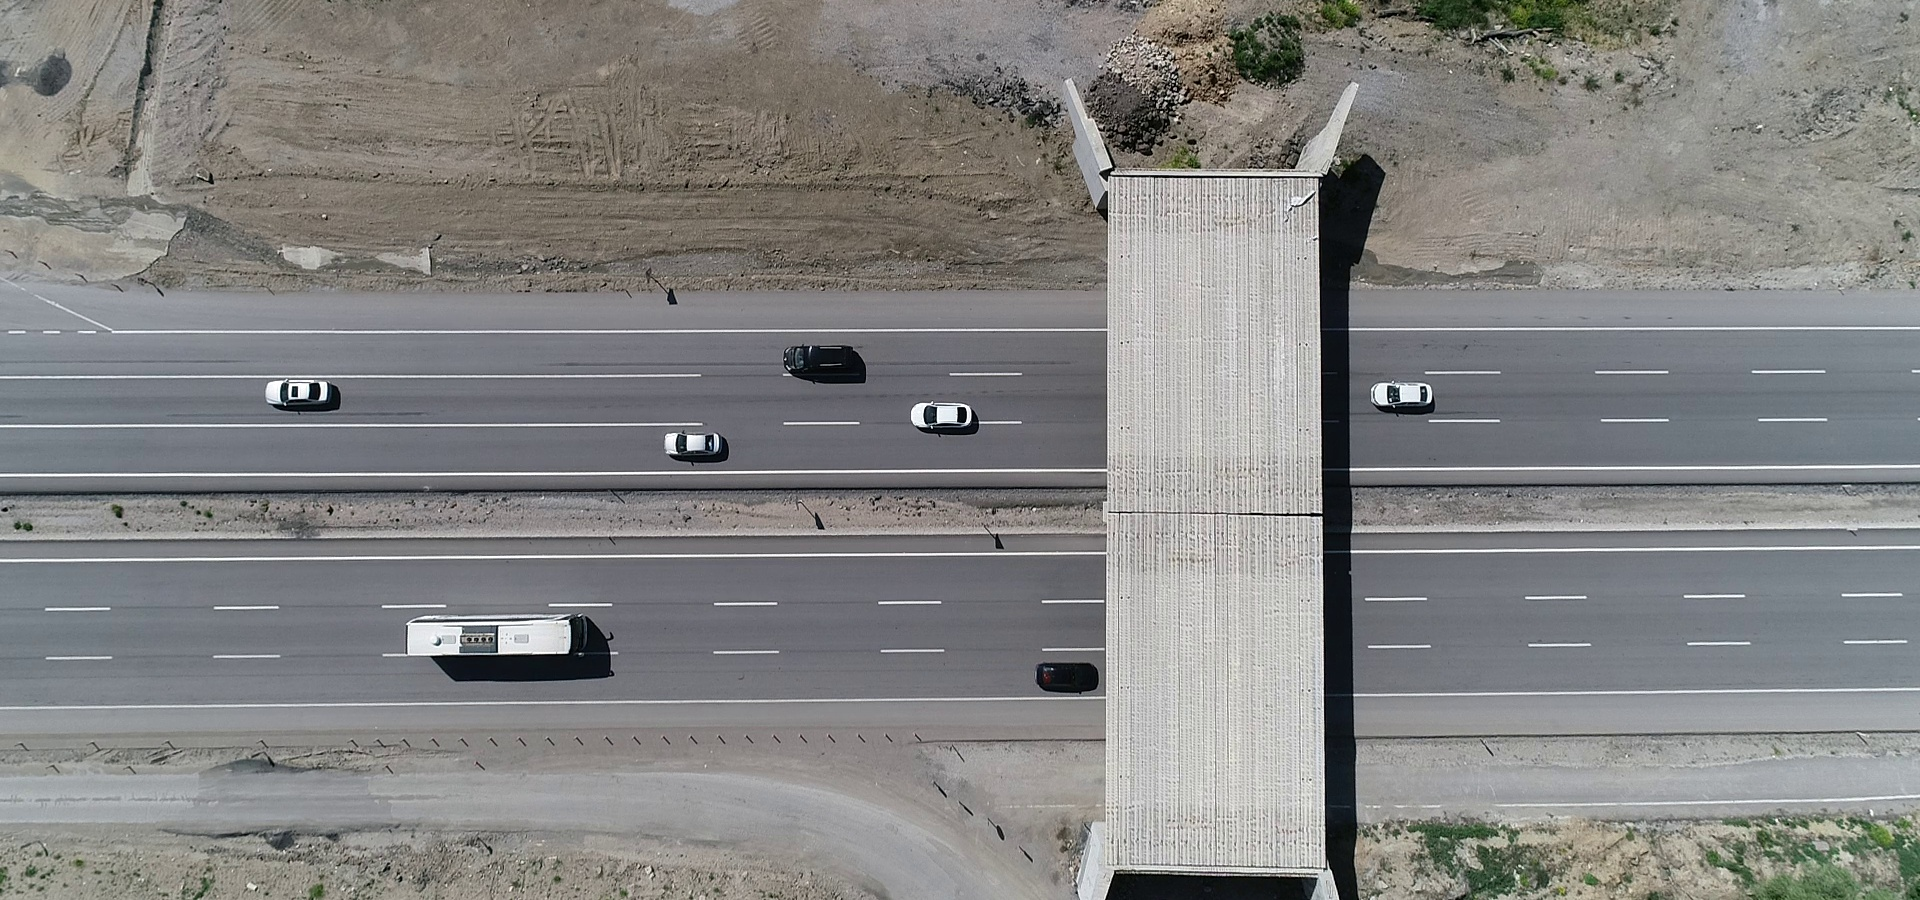arac: (403, 599, 602, 669), (782, 342, 871, 384), (257, 373, 353, 410), (907, 396, 989, 433), (1032, 654, 1100, 692), (1371, 376, 1442, 410), (666, 429, 729, 463)
